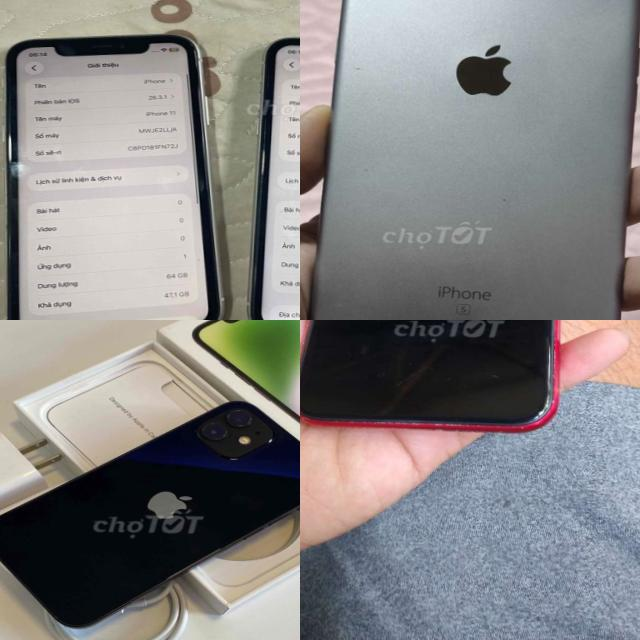gen_11: (240, 21, 300, 320)
gen_12_13: (0, 396, 300, 632)
gen_6: (307, 0, 639, 320)
gen_x_xs: (300, 320, 558, 430), (300, 320, 558, 429)
